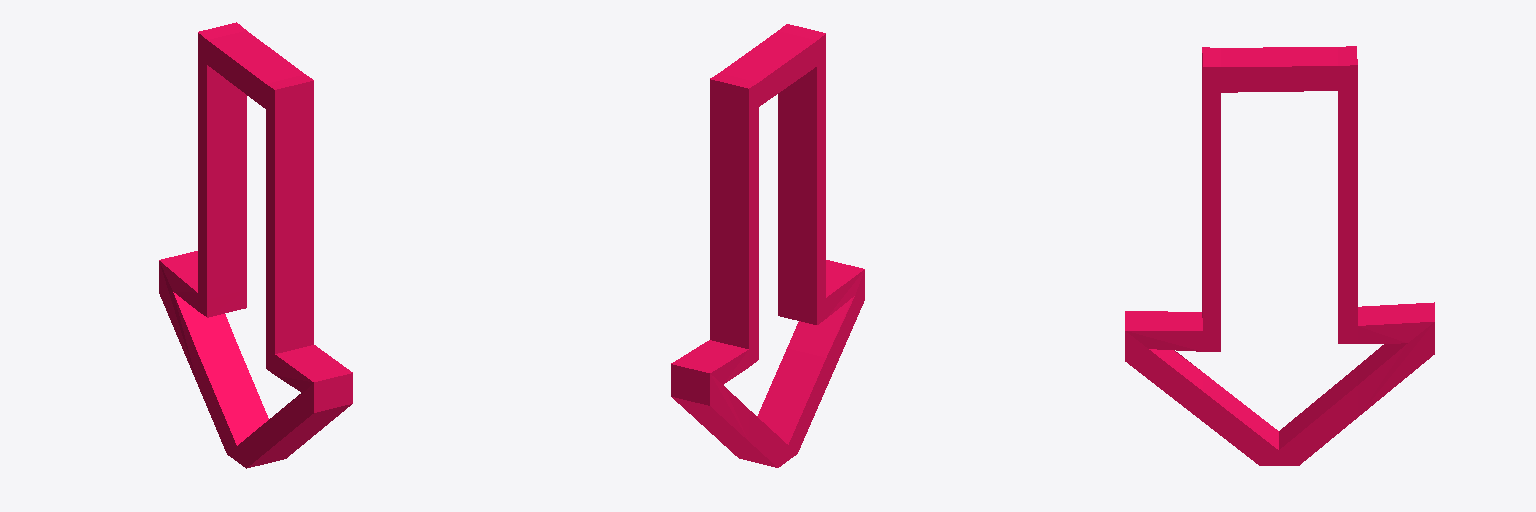
Rendered from arrow.obj.
The picture shows the model from 3 angles: view 1: azimuth 30°, elevation 25°; view 2: azimuth 150°, elevation 25°; view 3: azimuth 270°, elevation 25°; orthographic projection.
Visible parts, largest first — view 1: Plane.002; view 2: Plane.002; view 3: Plane.002.
Part boxes in pixels (left/top/right/bottom): Plane.002: left=159, top=22, right=352, bottom=468; Plane.002: left=671, top=24, right=864, bottom=467; Plane.002: left=1125, top=46, right=1434, bottom=465.
Size of the model in its own units: 0.1205 by 1.14 by 0.8.